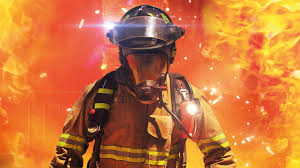emergent: (54, 6, 235, 167)
